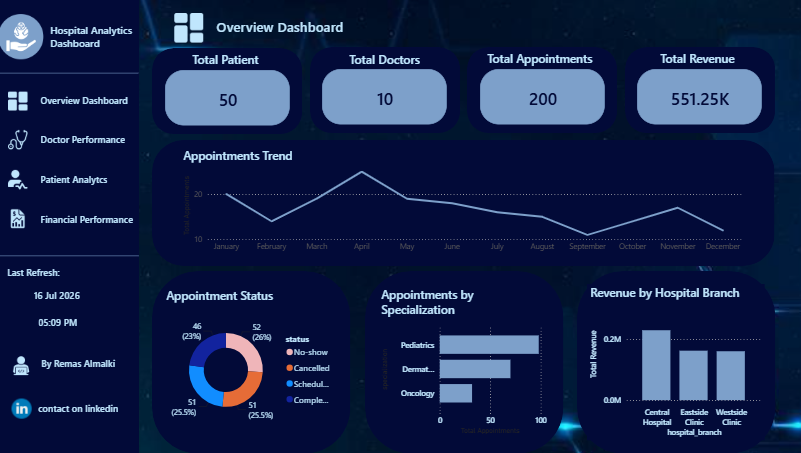

Layout of this report page (visuals, bound fields, positions):
{"tool":"powerbi","page":{"name":"Hospital Operations Overview","canvas":[1280,720],"ordinal":0},"visuals":[{"type":"shape","box":[0,0,227.1,720],"z":0},{"type":"shape","box":[248.3,76.7,238.3,136.7],"z":0,"group":"g4"},{"type":"actionButton","box":[67.3,133.4,158.3,50],"z":0,"group":"g1"},{"type":"cardVisual","fields":{"Data":["Measures1.Refresh Date"]},"box":[30,437.1,165.7,58.6],"z":0,"group":"g2"},{"type":"image","box":[20,562.5,39.2,38.3],"z":0,"group":"g3"},{"type":"image","box":[0,21.6,80.6,72],"z":1000},{"type":"cardVisual","fields":{"Data":["Measures1.Total Patients"]},"box":[268.3,111.7,198.3,88.3],"z":1000,"group":"g4"},{"type":"image","box":[19.5,144.4,30.6,31.7],"z":1000,"group":"g1"},{"type":"textbox","box":[12.9,417.1,100,38.6],"z":1000,"group":"g2"},{"type":"textbox","box":[65.8,562.5,143.3,38.3],"z":1000,"group":"g3"},{"type":"textbox","box":[80.6,31.7,145.4,86.4],"z":2000},{"type":"shape","box":[998.3,75,238.3,136.7],"z":2000,"group":"g4"},{"type":"image","box":[19.1,202.7,30.9,36.4],"z":2000,"group":"g1"},{"type":"cardVisual","fields":{"Data":["Measures1.Refresh Time"]},"box":[50,480,105.7,55.7],"z":2000,"group":"g2"},{"type":"actionButton","box":[20,629.2,186.7,40],"z":2000,"group":"g3"},{"type":"shape","box":[0,57.6,226.1,118.1],"z":3000},{"type":"shape","box":[748.3,75,238.3,136.7],"z":3000,"group":"g4"},{"type":"actionButton","box":[66.4,195.4,160,50.9],"z":3000,"group":"g1"},{"type":"image","box":[281.1,21.1,50,46.7],"z":4000},{"type":"shape","box":[498.3,75,238.3,136.7],"z":4000,"group":"g4"},{"type":"image","box":[19.3,266,30.7,36.7],"z":4000,"group":"g1"},{"type":"textbox","box":[306.6,76.7,123.3,45],"z":5000,"group":"g4"},{"type":"group","id":"g1","title":"Group 1","box":[19.1,133.4,207.3,239.9],"z":5000},{"type":"actionButton","box":[66,258.7,160,51.3],"z":5000,"group":"g1"},{"type":"cardVisual","fields":{"Data":["Measures1.Total Doctors"]},"box":[518.3,110,198.3,88.3],"z":6000,"group":"g4"},{"type":"actionButton","box":[66,322,160,51.3],"z":6000,"group":"g1"},{"type":"shape","box":[0,348.3,226.7,116.7],"z":6000},{"type":"textbox","box":[556.6,76.7,123.3,45],"z":7000,"group":"g4"},{"type":"image","box":[19.3,329.3,30.7,36.7],"z":7000,"group":"g1"},{"type":"group","id":"g2","title":"Group 2","box":[12.9,417.1,182.9,118.6],"z":7000},{"type":"cardVisual","fields":{"Data":["Measures1.Total Appointments"]},"box":[768.3,110,198.3,88.3],"z":8000,"group":"g4"},{"type":"group","id":"g3","title":"Group 3","box":[20,562.5,189.2,106.7],"z":8000},{"type":"textbox","box":[775,75,191.7,45],"z":9000,"group":"g4"},{"type":"shape","box":[248.3,221.7,988.3,200],"z":9000,"group":"g5"},{"type":"shape","box":[248.3,430,315,290],"z":9000},{"type":"cardVisual","fields":{"Data":["Measures1.Total Revenue"]},"box":[1018.3,110,198.3,88.3],"z":10000,"group":"g4"},{"type":"lineChart","title":"Appointments Trend","fields":{"Category":["Dim_Calendar.Month Name"],"Y":["Measures1.Total Appointments"]},"box":[293.3,233.4,898.3,176.7],"z":10000,"group":"g5"},{"type":"shape","box":[585,430,315,290],"z":10000},{"type":"textbox","box":[1050,75,136.7,45],"z":11000,"group":"g4"},{"type":"shape","box":[921.7,430,315,290],"z":11000},{"type":"donutChart","title":"Appointment Status","fields":{"Category":["Fact_Appointments.status"],"Y":["CountNonNull(Fact_Appointments.appointment_id)"]},"box":[265,455,281.7,238.3],"z":12000},{"type":"barChart","title":"Appointments by Specialization","fields":{"Category":["Dim_Doctors.specialization"],"Y":["Measures1.Total Appointments"]},"box":[606.7,453.3,273.3,240],"z":13000},{"type":"clusteredColumnChart","title":"Revenue by Hospital Branch","fields":{"Category":["Dim_Doctors.hospital_branch"],"Y":["Measures1.Total Revenue"]},"box":[938.3,450,281.7,248.3],"z":14000},{"type":"group","id":"g4","title":"Group 4","box":[248.3,75,988.3,138.3],"z":15000},{"type":"textbox","box":[331.7,21.7,238.3,46.7],"z":16000},{"type":"group","id":"g5","title":"Group 5","box":[248.3,221.7,988.3,200],"z":17000}]}

Visuals, with their boxes on the page's 1280x720 design canvas (x1, y1, x2, y2). These are canvas units, not pixel positions in the 801x453 screenshot, which may show the page scaled, cropped or inside an application window:
shape: x1=0, y1=0, x2=227, y2=720
shape: x1=248, y1=77, x2=487, y2=213
actionButton: x1=67, y1=133, x2=226, y2=183
cardVisual - Measures1.Refresh Date: x1=30, y1=437, x2=196, y2=496
image: x1=20, y1=562, x2=59, y2=601
image: x1=0, y1=22, x2=81, y2=94
cardVisual - Measures1.Total Patients: x1=268, y1=112, x2=467, y2=200
image: x1=20, y1=144, x2=50, y2=176
textbox: x1=13, y1=417, x2=113, y2=456
textbox: x1=66, y1=562, x2=209, y2=601
textbox: x1=81, y1=32, x2=226, y2=118
shape: x1=998, y1=75, x2=1237, y2=212
image: x1=19, y1=203, x2=50, y2=239
cardVisual - Measures1.Refresh Time: x1=50, y1=480, x2=156, y2=536
actionButton: x1=20, y1=629, x2=207, y2=669
shape: x1=0, y1=58, x2=226, y2=176
shape: x1=748, y1=75, x2=987, y2=212
actionButton: x1=66, y1=195, x2=226, y2=246
image: x1=281, y1=21, x2=331, y2=68
shape: x1=498, y1=75, x2=737, y2=212
image: x1=19, y1=266, x2=50, y2=303
textbox: x1=307, y1=77, x2=430, y2=122
"Group 1" group: x1=19, y1=133, x2=226, y2=373
actionButton: x1=66, y1=259, x2=226, y2=310
cardVisual - Measures1.Total Doctors: x1=518, y1=110, x2=717, y2=198
actionButton: x1=66, y1=322, x2=226, y2=373
shape: x1=0, y1=348, x2=227, y2=465
textbox: x1=557, y1=77, x2=680, y2=122
image: x1=19, y1=329, x2=50, y2=366
"Group 2" group: x1=13, y1=417, x2=196, y2=536
cardVisual - Measures1.Total Appointments: x1=768, y1=110, x2=967, y2=198
"Group 3" group: x1=20, y1=562, x2=209, y2=669
textbox: x1=775, y1=75, x2=967, y2=120
shape: x1=248, y1=222, x2=1237, y2=422
shape: x1=248, y1=430, x2=563, y2=720
cardVisual - Measures1.Total Revenue: x1=1018, y1=110, x2=1217, y2=198
"Appointments Trend" lineChart: x1=293, y1=233, x2=1192, y2=410
shape: x1=585, y1=430, x2=900, y2=720
textbox: x1=1050, y1=75, x2=1187, y2=120
shape: x1=922, y1=430, x2=1237, y2=720
"Appointment Status" donutChart: x1=265, y1=455, x2=547, y2=693
"Appointments by Specialization" barChart: x1=607, y1=453, x2=880, y2=693
"Revenue by Hospital Branch" clusteredColumnChart: x1=938, y1=450, x2=1220, y2=698
"Group 4" group: x1=248, y1=75, x2=1237, y2=213
textbox: x1=332, y1=22, x2=570, y2=68
"Group 5" group: x1=248, y1=222, x2=1237, y2=422
